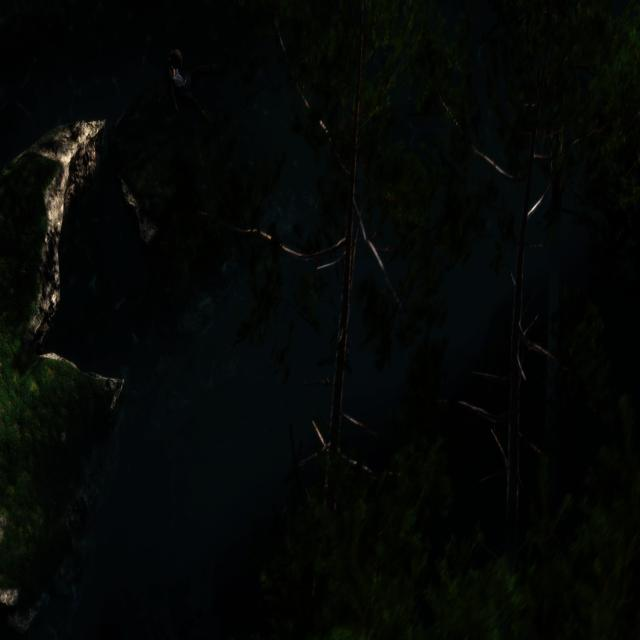Human: (162, 42, 242, 133)
